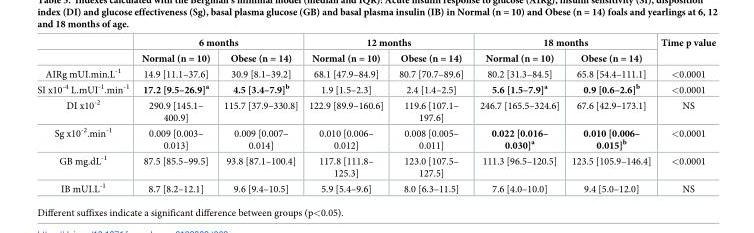table: (36, 37, 715, 193)
table column: (36, 37, 134, 193), (471, 37, 564, 193), (564, 37, 655, 193), (302, 37, 390, 193), (216, 37, 302, 193), (134, 37, 216, 193), (390, 37, 471, 193), (655, 37, 715, 193)
table column header: (36, 37, 715, 64)
table row: (36, 96, 715, 124), (36, 124, 715, 152), (36, 152, 715, 179), (36, 64, 715, 80), (36, 80, 715, 96), (36, 50, 715, 64), (36, 179, 715, 193), (36, 37, 715, 50)
table spanning cell: (471, 37, 655, 50), (302, 37, 471, 50), (134, 37, 302, 50), (655, 37, 715, 64)
